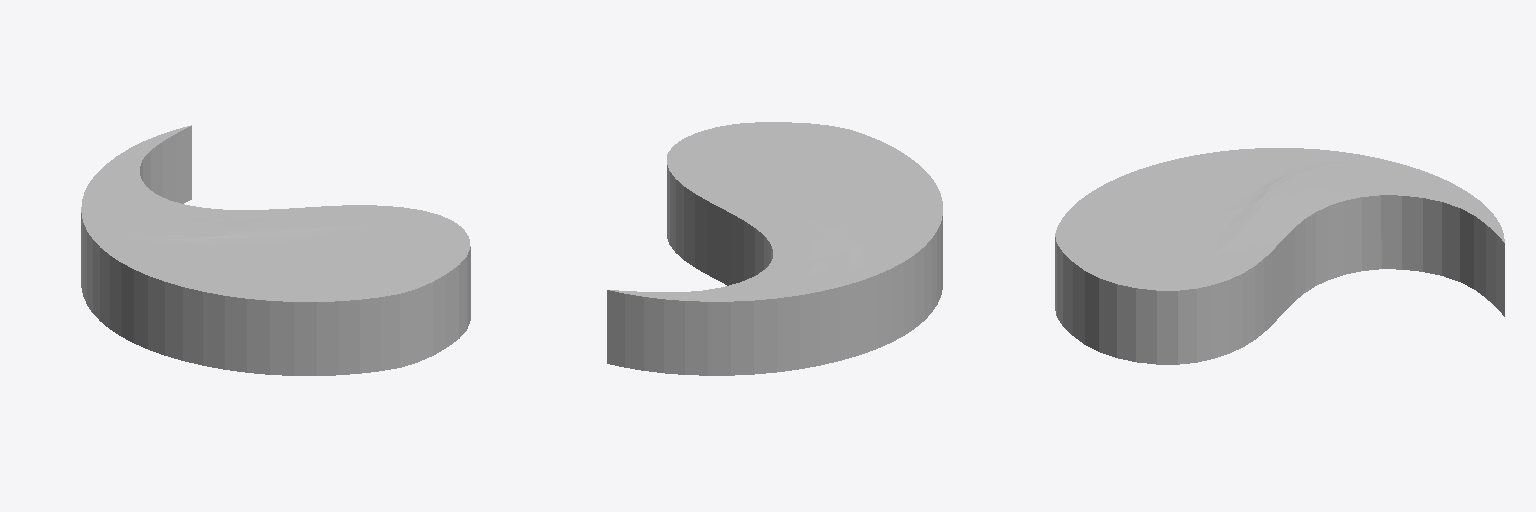
File: Yang.obj
The picture shows the model from 3 angles: view 1: azimuth 30°, elevation 25°; view 2: azimuth 150°, elevation 25°; view 3: azimuth 270°, elevation 25°; orthographic projection.
Visible parts, largest first — view 1: Yang_Roundcube; view 2: Yang_Roundcube; view 3: Yang_Roundcube.
Boxes of the visible parts, <box> form: Yang_Roundcube: <box>81,125,470,375</box>; Yang_Roundcube: <box>607,122,942,375</box>; Yang_Roundcube: <box>1055,148,1504,364</box>.
Bounding box in the file's own units: 1.47 × 0.3577 × 1.95.